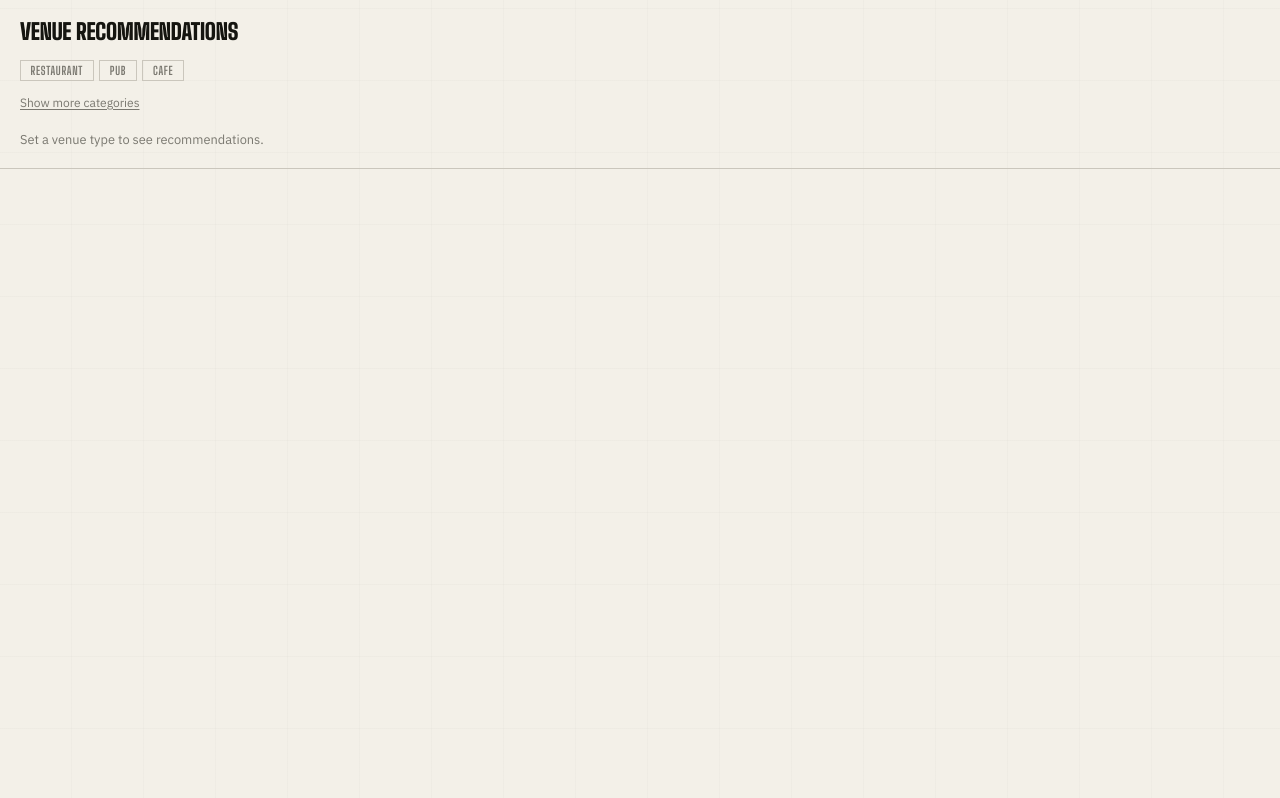
Scenario: VenueList › resets display limit to 10 when venue type filter changes
Click the button "Pub": (118, 70) [99,60,137,81]
(page scrolled)
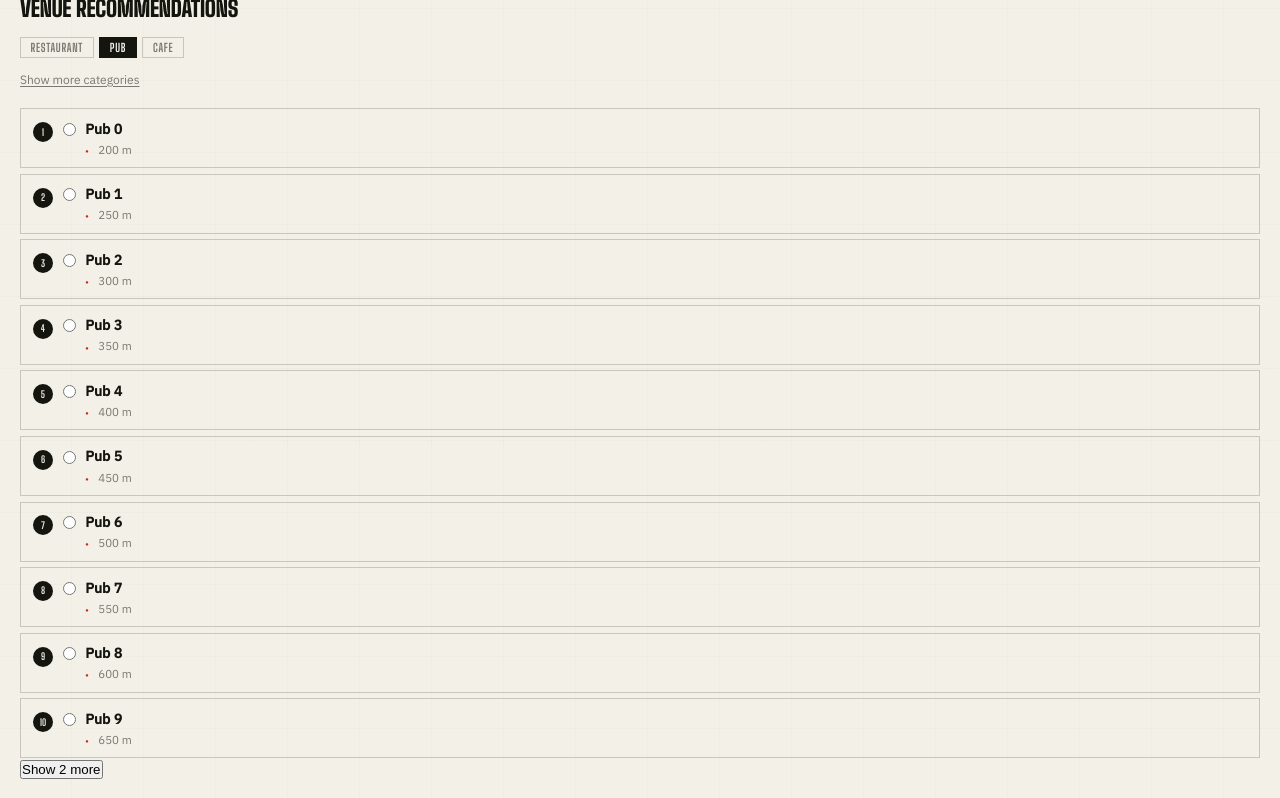
Expected: the number of list items with test id "venue-card" is 10
Click the button "Show 2 more": (61, 770) [20,760,102,779]
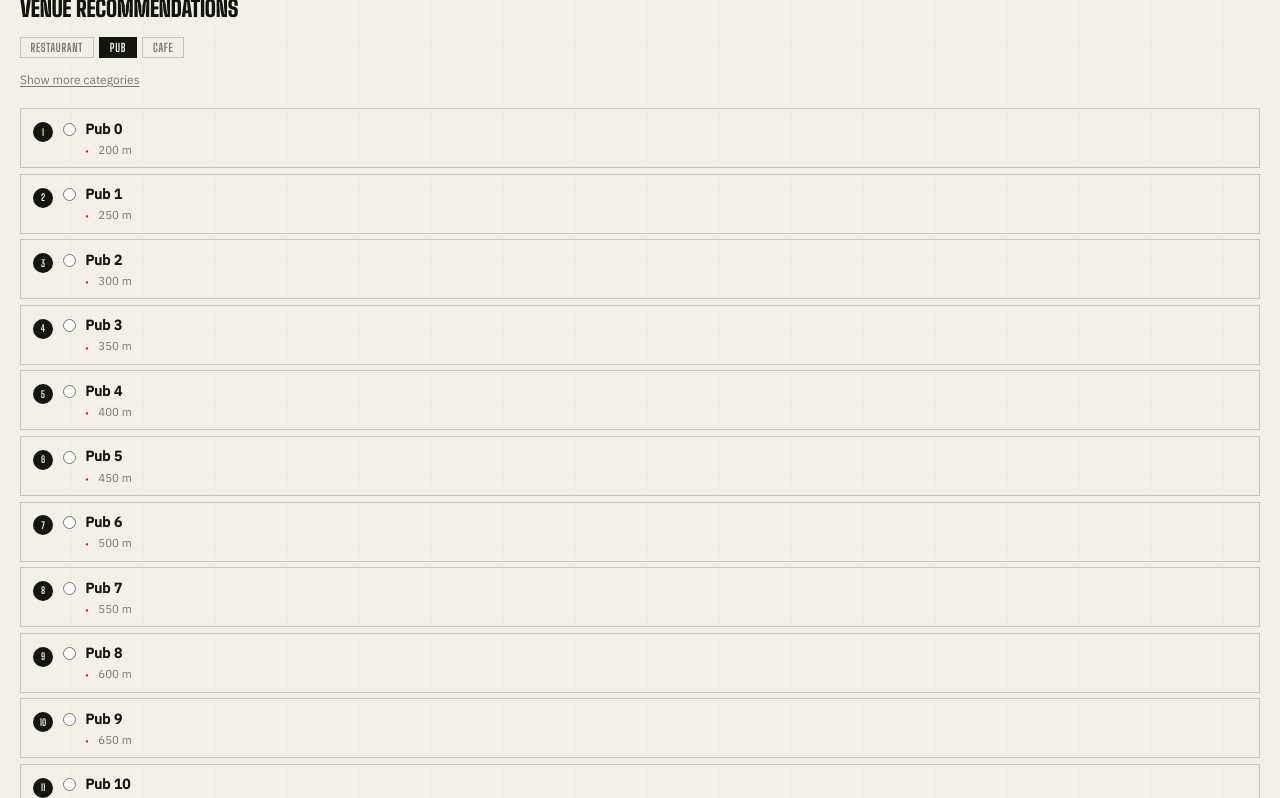
# Adding a second category resets limit to 10
Click the button "Cafe": (163, 47) [142,36,184,58]
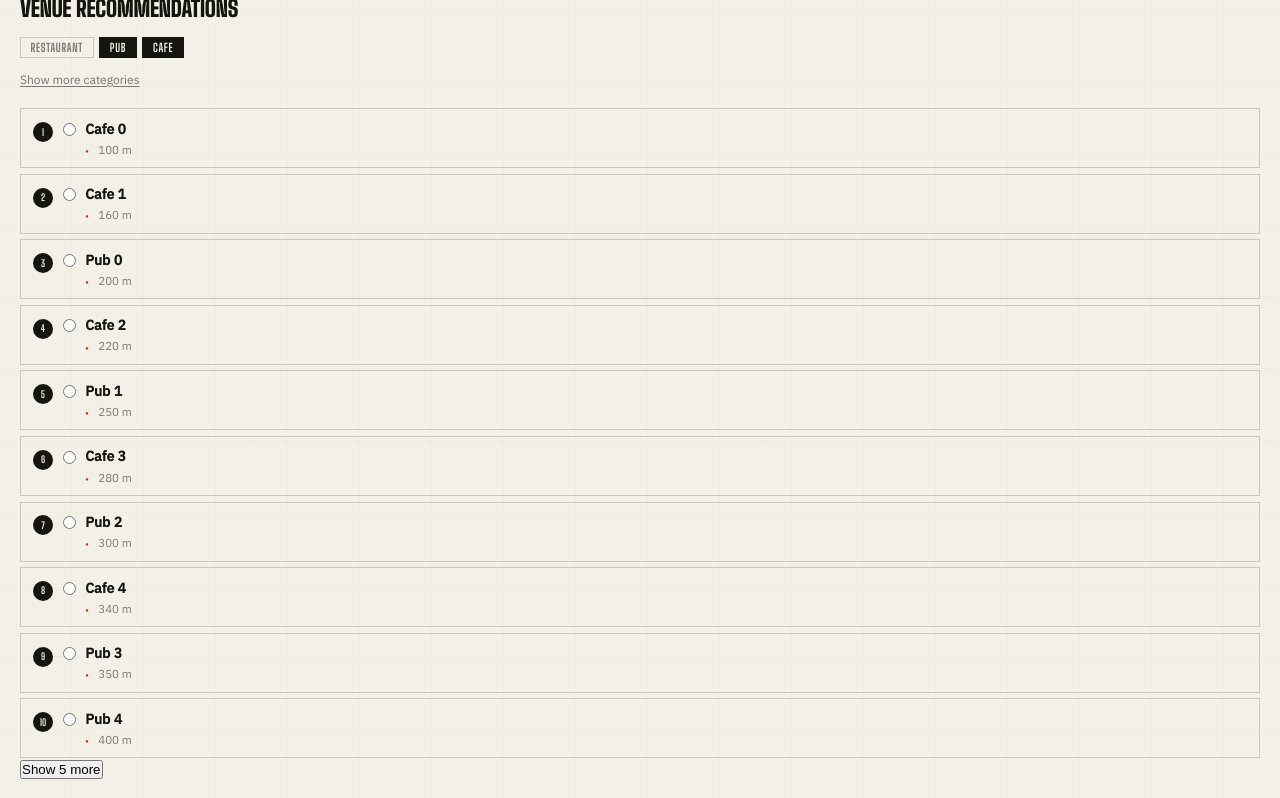
Expected: the number of list items with test id "venue-card" is 10
